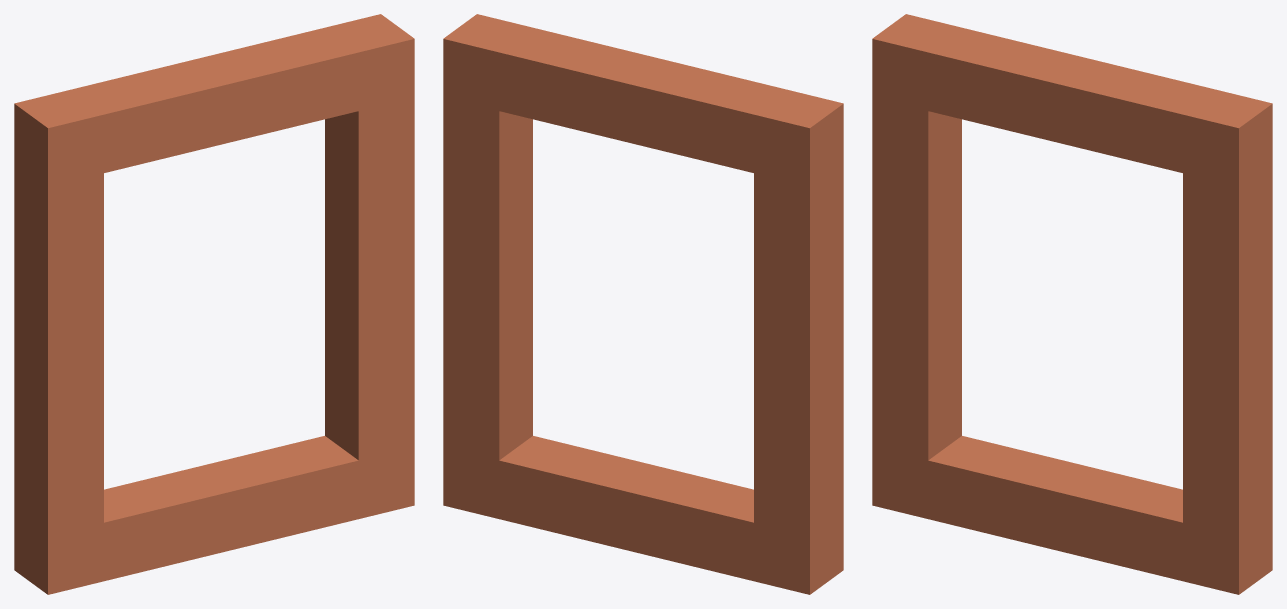
The model's file is window-brown.obj.
3 renders of one model, left to right at view 1: azimuth 30°, elevation 25°; view 2: azimuth 150°, elevation 25°; view 3: azimuth 330°, elevation 25°, orthographic.
Bounding box in the file's own units: 0.3125 × 0.38 × 0.05.
